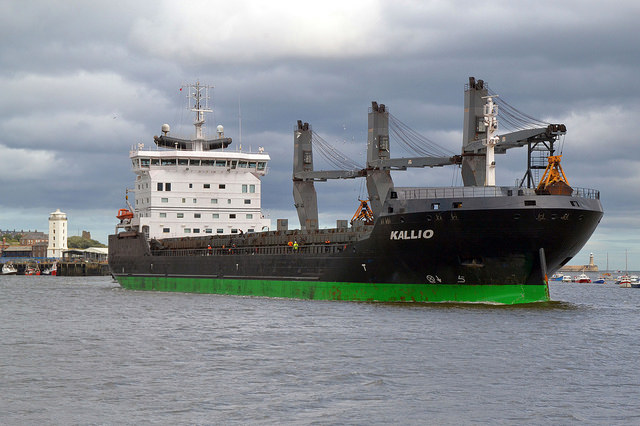bulk carrier: (107, 87, 604, 303)
